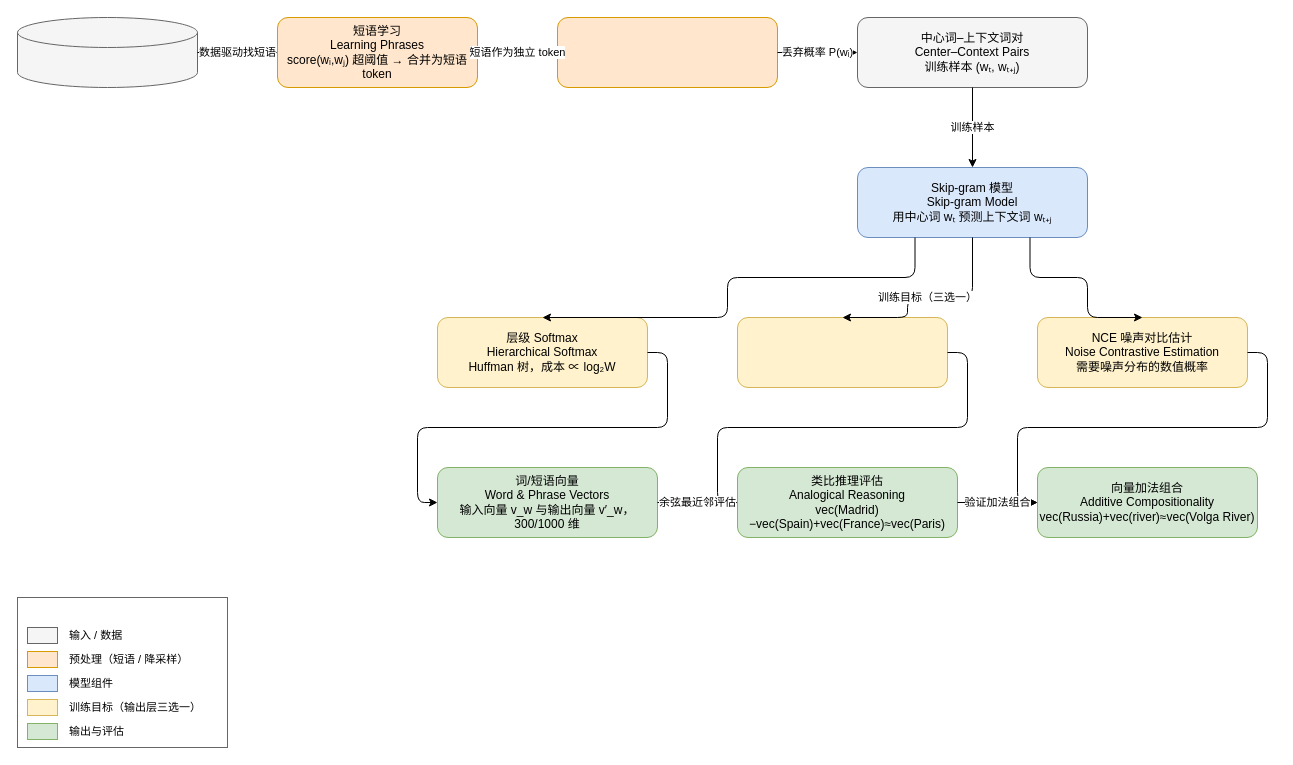
The diagram is 1293 pixels wide and 765 high, and some of its shapes have lost their labels. The shapes that lost their labels are listed below. From the top down, each one's box as (x1, y1, x2, y2) in pixels, then its label:
(16, 16, 198, 88): 训练语料 Training Corpus 10 亿–330 亿词新闻数据
(556, 16, 778, 88): 高频词降采样 Subsampling of Frequent Words P(wᵢ) = 1 − √(t/f(wᵢ))，t ≈ 10⁻⁵
(736, 316, 948, 388): 负采样 Negative Sampling (NEG) 区分目标词与 k 个噪声词，Pₙ(w)=U(w)^(3/4)
(16, 596, 228, 748): 图例 Legend
